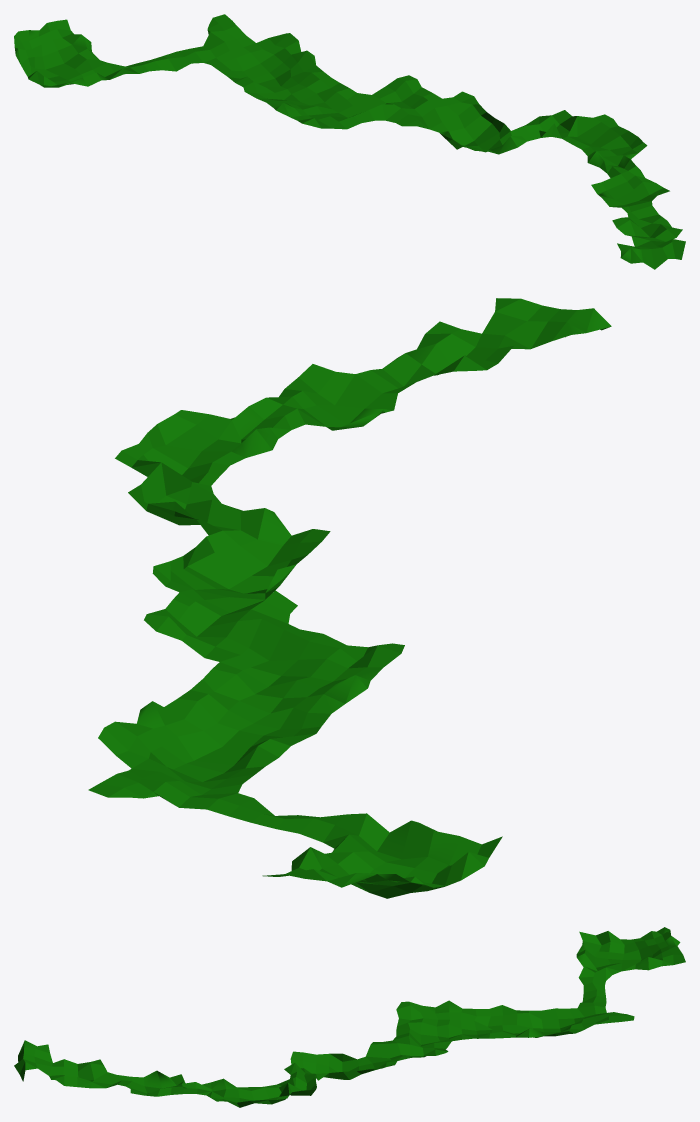
Rendered from Rivière.FBX.
3 views of the same model, one above another, from view 1: azimuth 30°, elevation 25°; view 2: azimuth 150°, elevation 25°; view 3: azimuth 270°, elevation 25° (orthographic). The views are drawn at different scales.
Visible parts, largest first — view 1: Rivière; view 2: Rivière; view 3: Rivière.
Boxes of the visible parts, left/top/right/bottom form: Rivière: left=14, top=14, right=685, bottom=269; Rivière: left=88, top=298, right=611, bottom=898; Rivière: left=14, top=927, right=685, bottom=1107.
Size of the model in its own units: 597 by 996 by 61.32.
